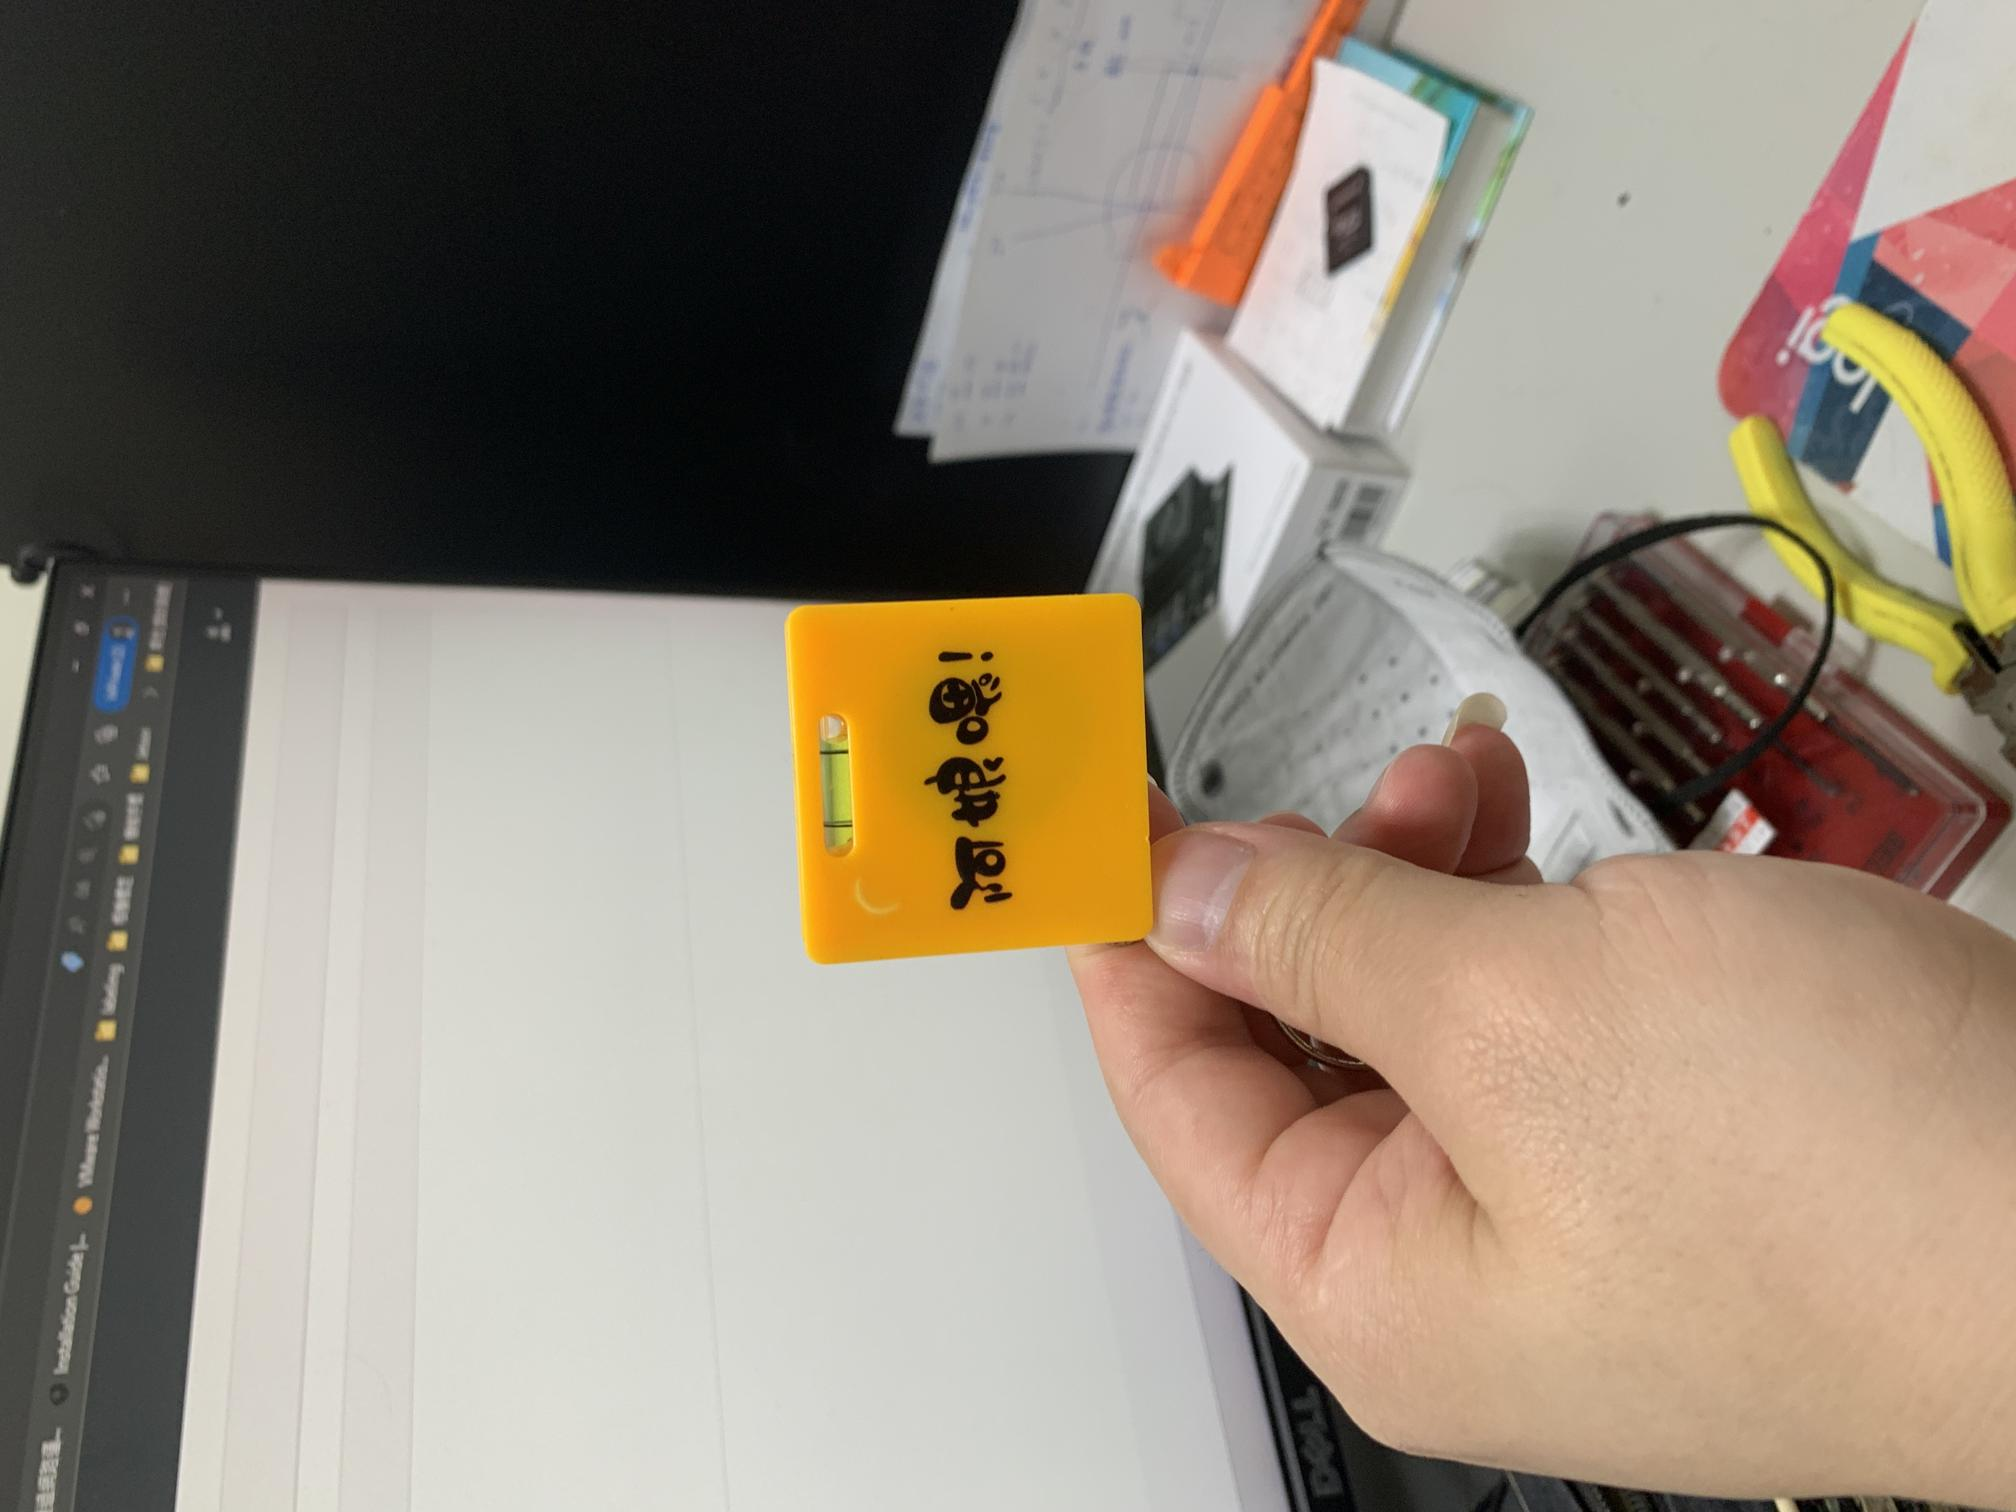Laio: (742, 576, 1167, 966)
